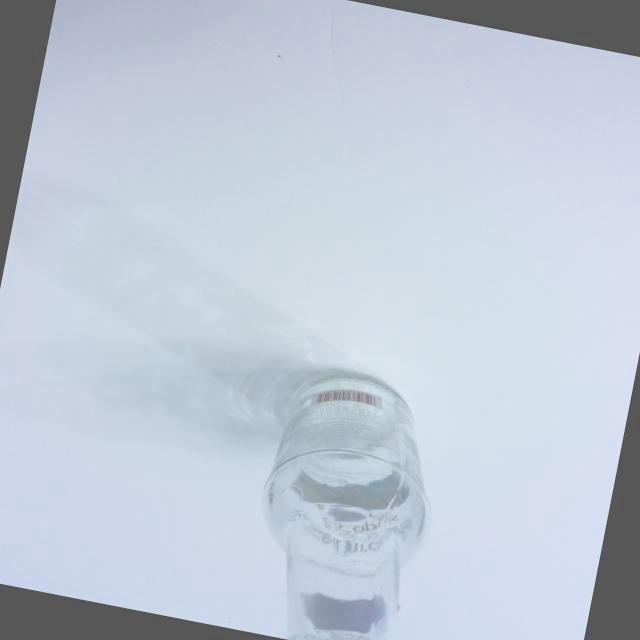glass: (230, 352, 461, 640)
